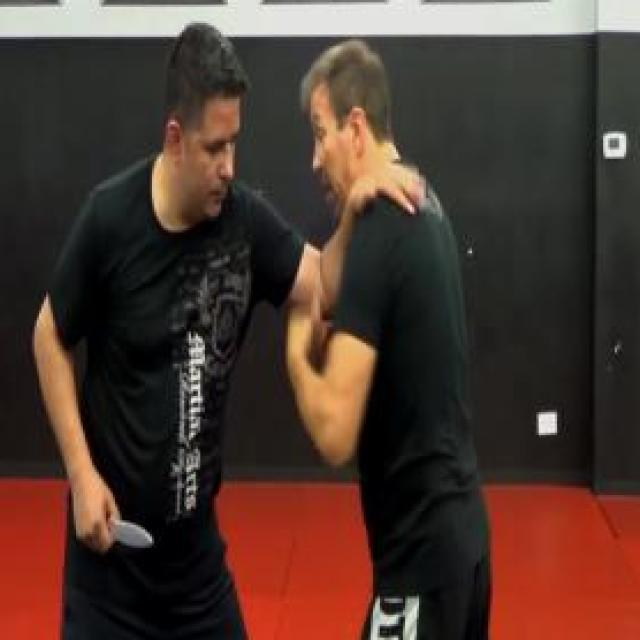knife: (66, 498, 158, 558)
